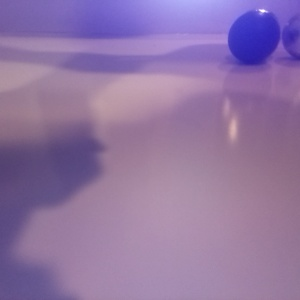alive_ball: (214, 99, 300, 205)
dead_ball: (155, 84, 233, 167), (1, 68, 20, 142)
